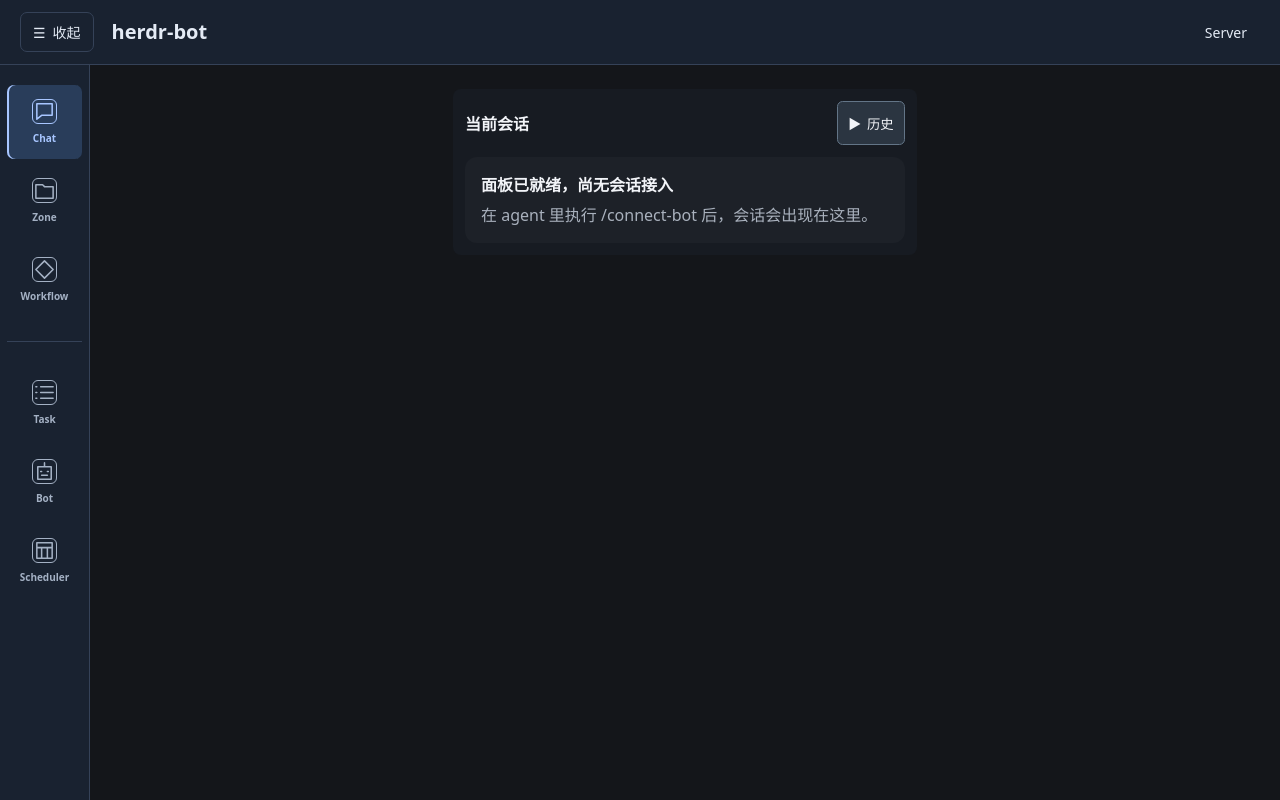
Test case: Task tab：读取与展示 › 空值与多行 prompt 都能保存，Skill 可保持不选
The image size is (1280, 800).
Click the tab with test id "tab-tasks" at (44, 403), box [7,366,82,440]
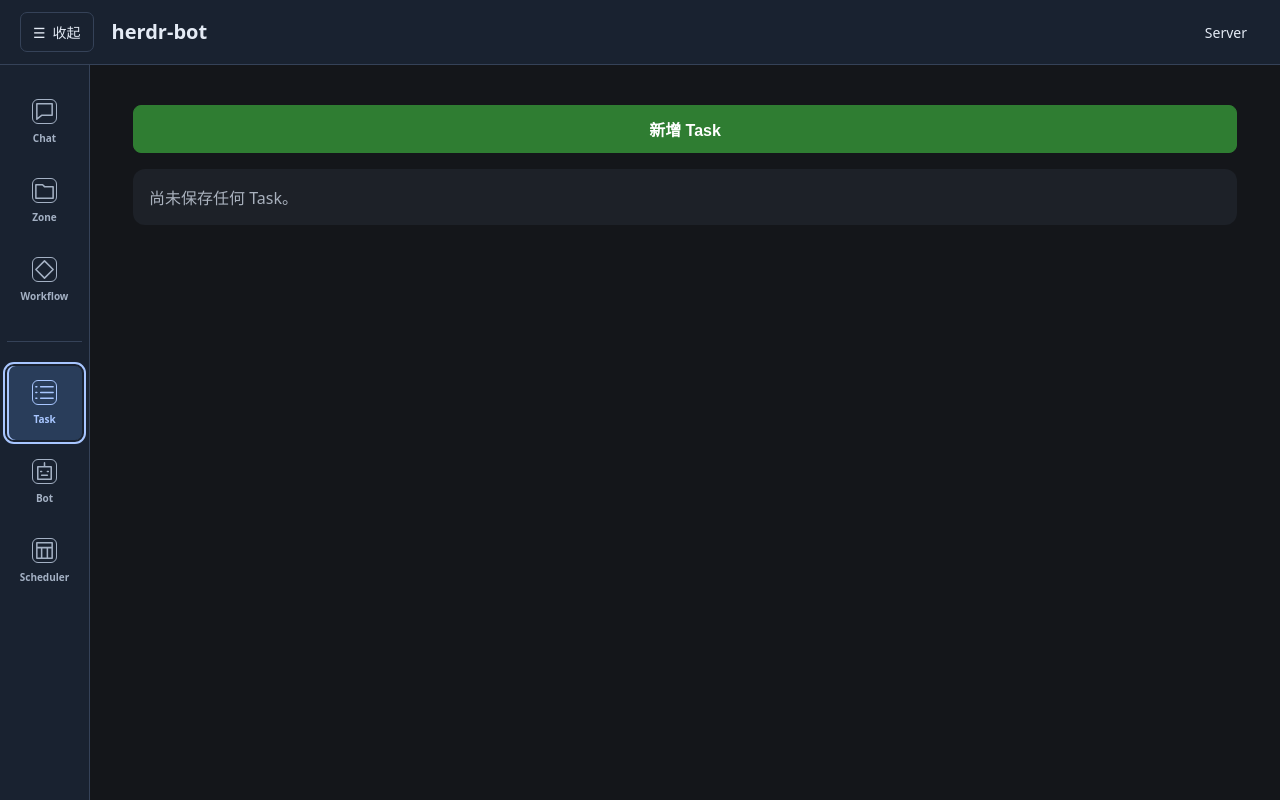
Check: the text "尚未保存任何 Task。" is shown, box [133,169,1237,225]
Click the button with test id "task-create-open" at (685, 129), box [133,105,1237,153]
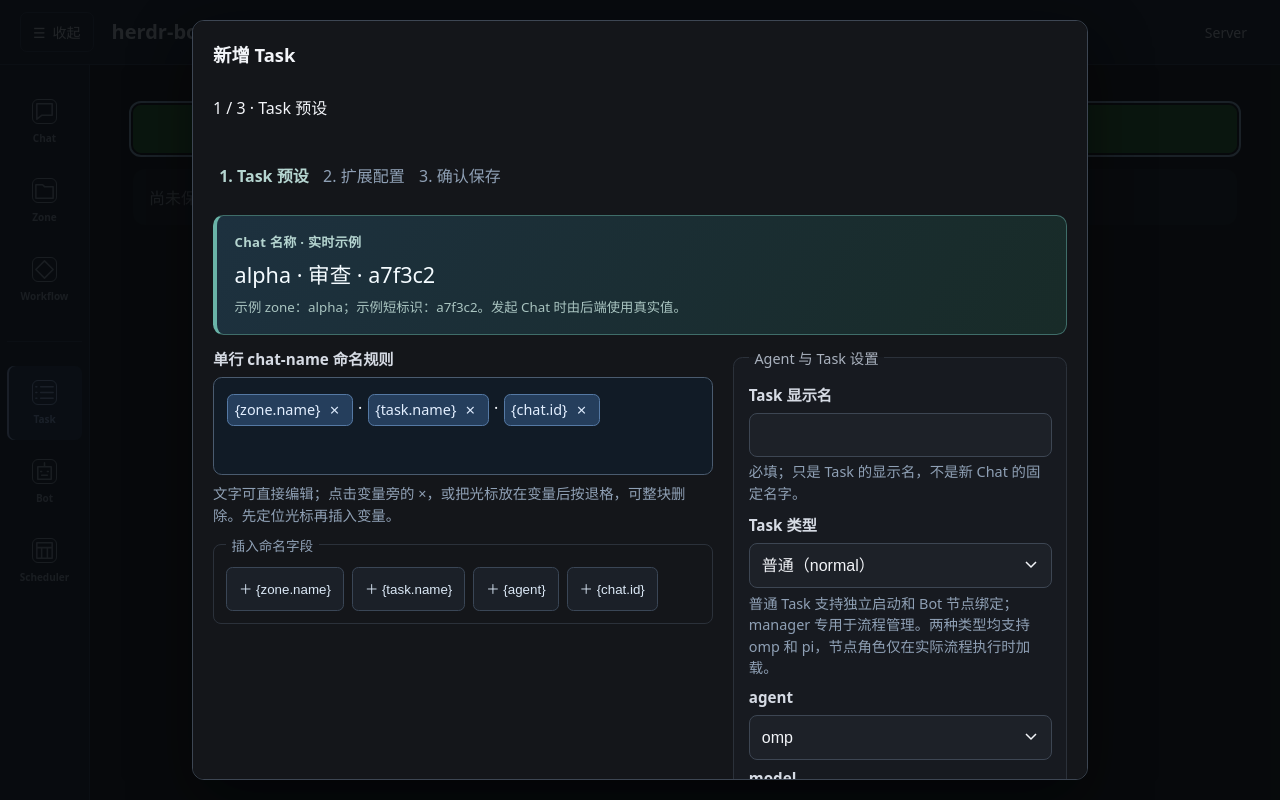
Type "空 prompt Bot" into the field with test id "task-name" at (900, 435), box [749,413,1052,457]
(page scrolled)
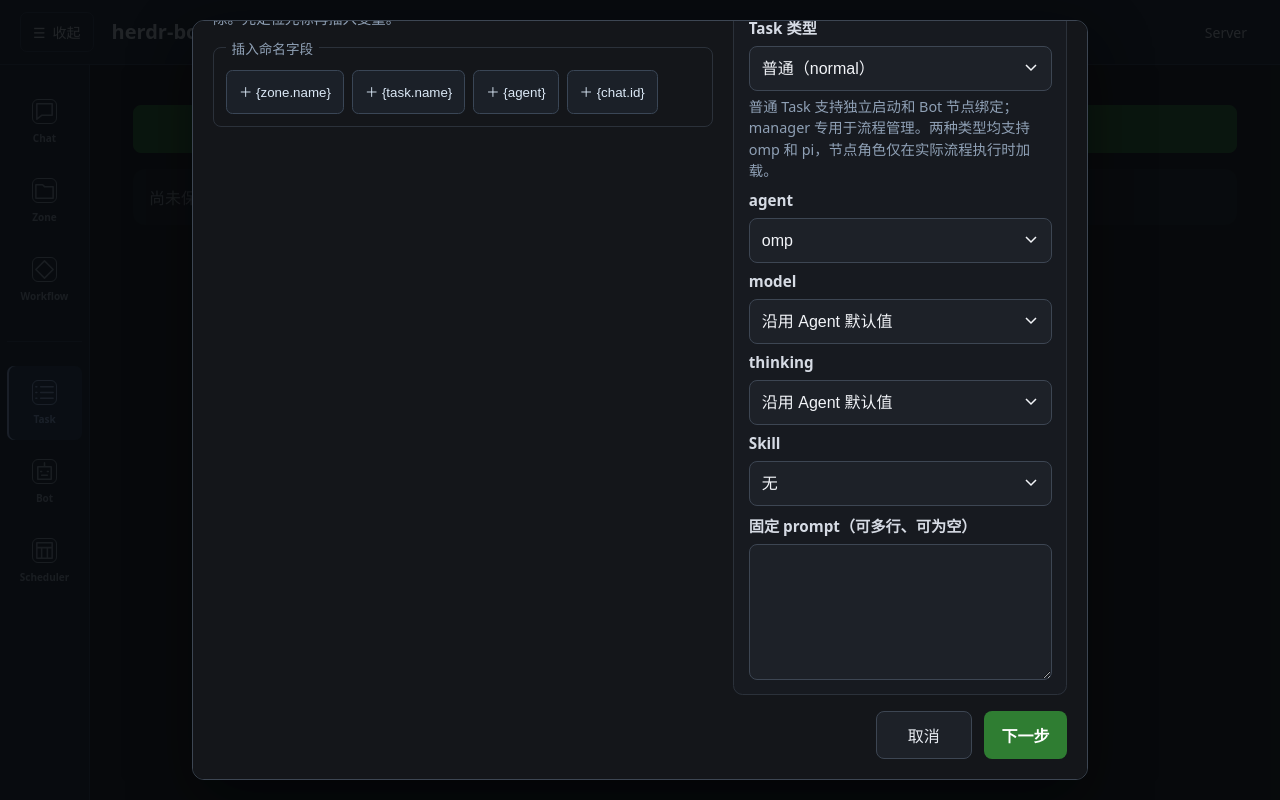
Check: the text box with test id "task-prompt" is empty, box [749,544,1052,680]
Check: the dropdown with test id "task-skill" shows "无", box [749,461,1052,506]
Click the button with test id "task-next" at (1025, 735), box [984,711,1067,759]
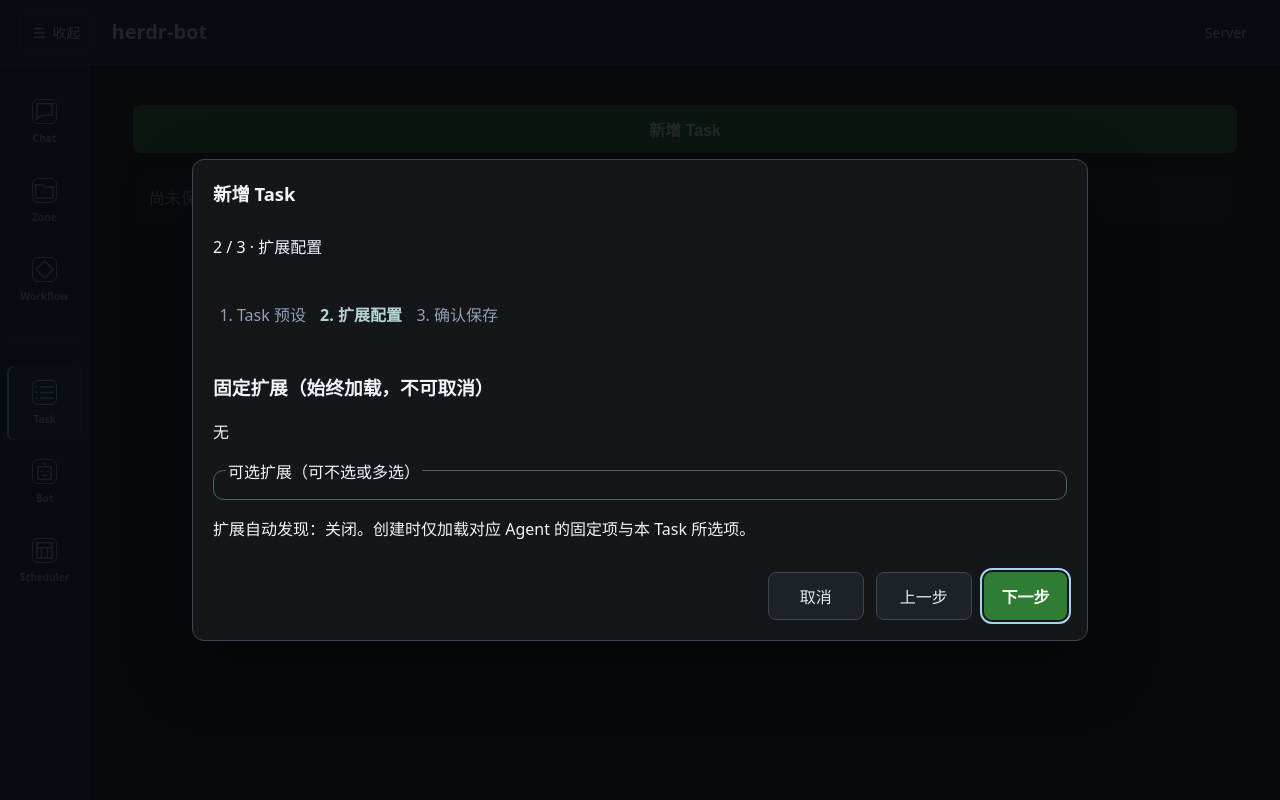
Click the button with test id "task-next" at (1025, 596), box [984,572,1067,620]
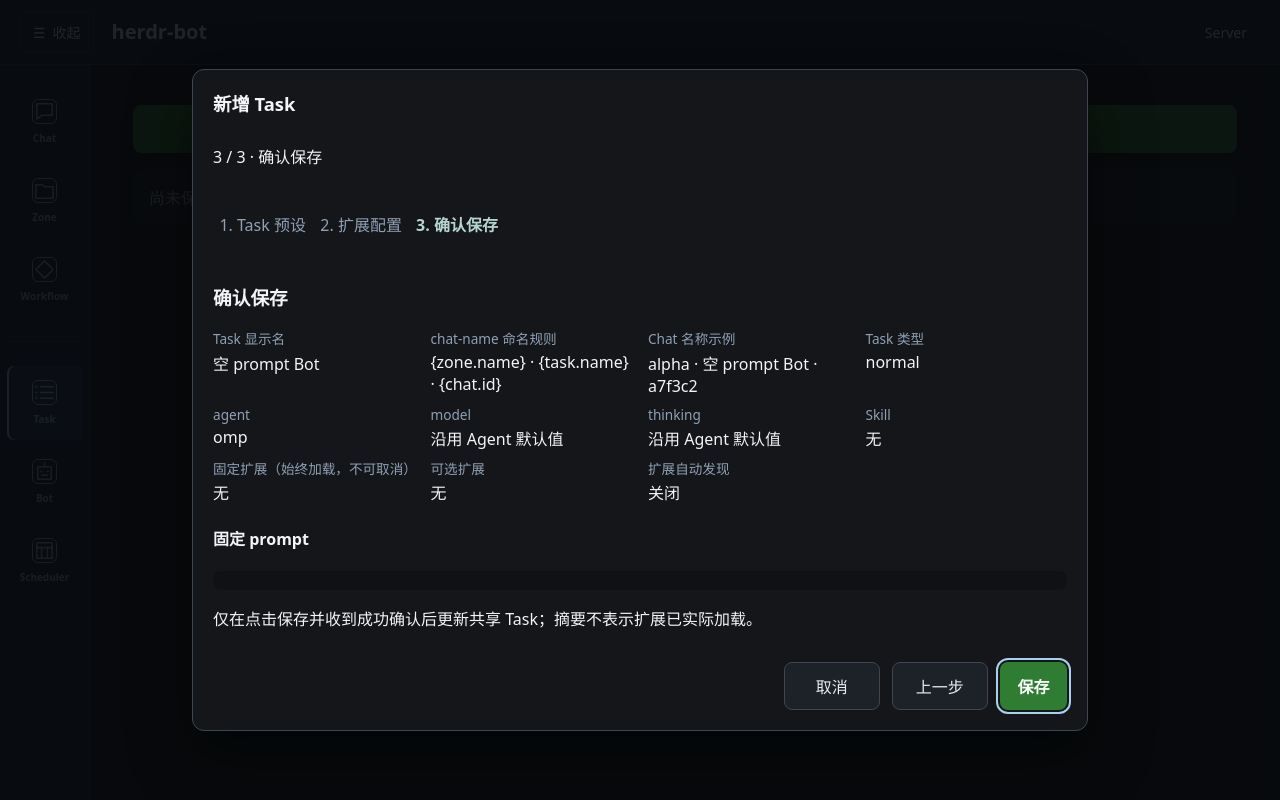
Click the button with test id "save-task" at (1033, 686), box [1000,662,1067,710]
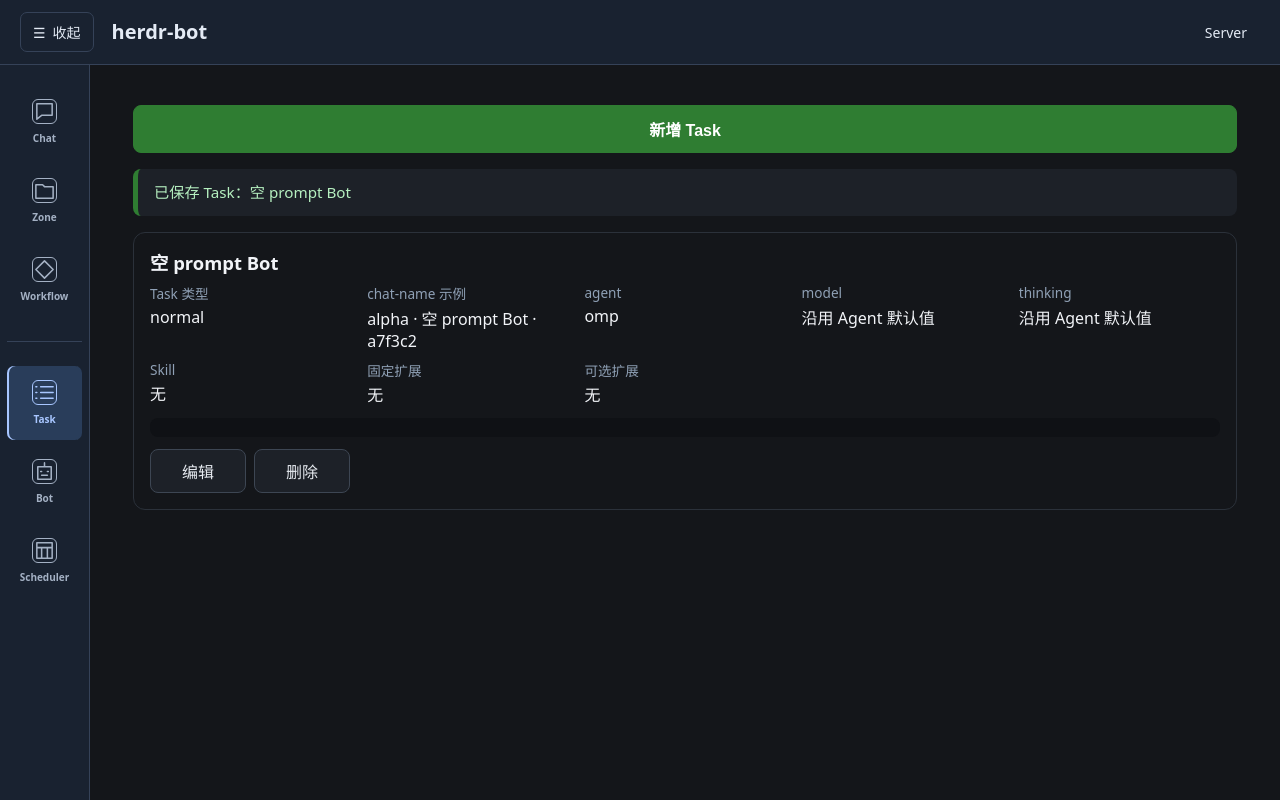
Check: the list with test id "task-list" is shown, box [133,232,1237,510]
Check: the list item with test id "task-item" shows "空 prompt Bot", box [150,250,278,275]
